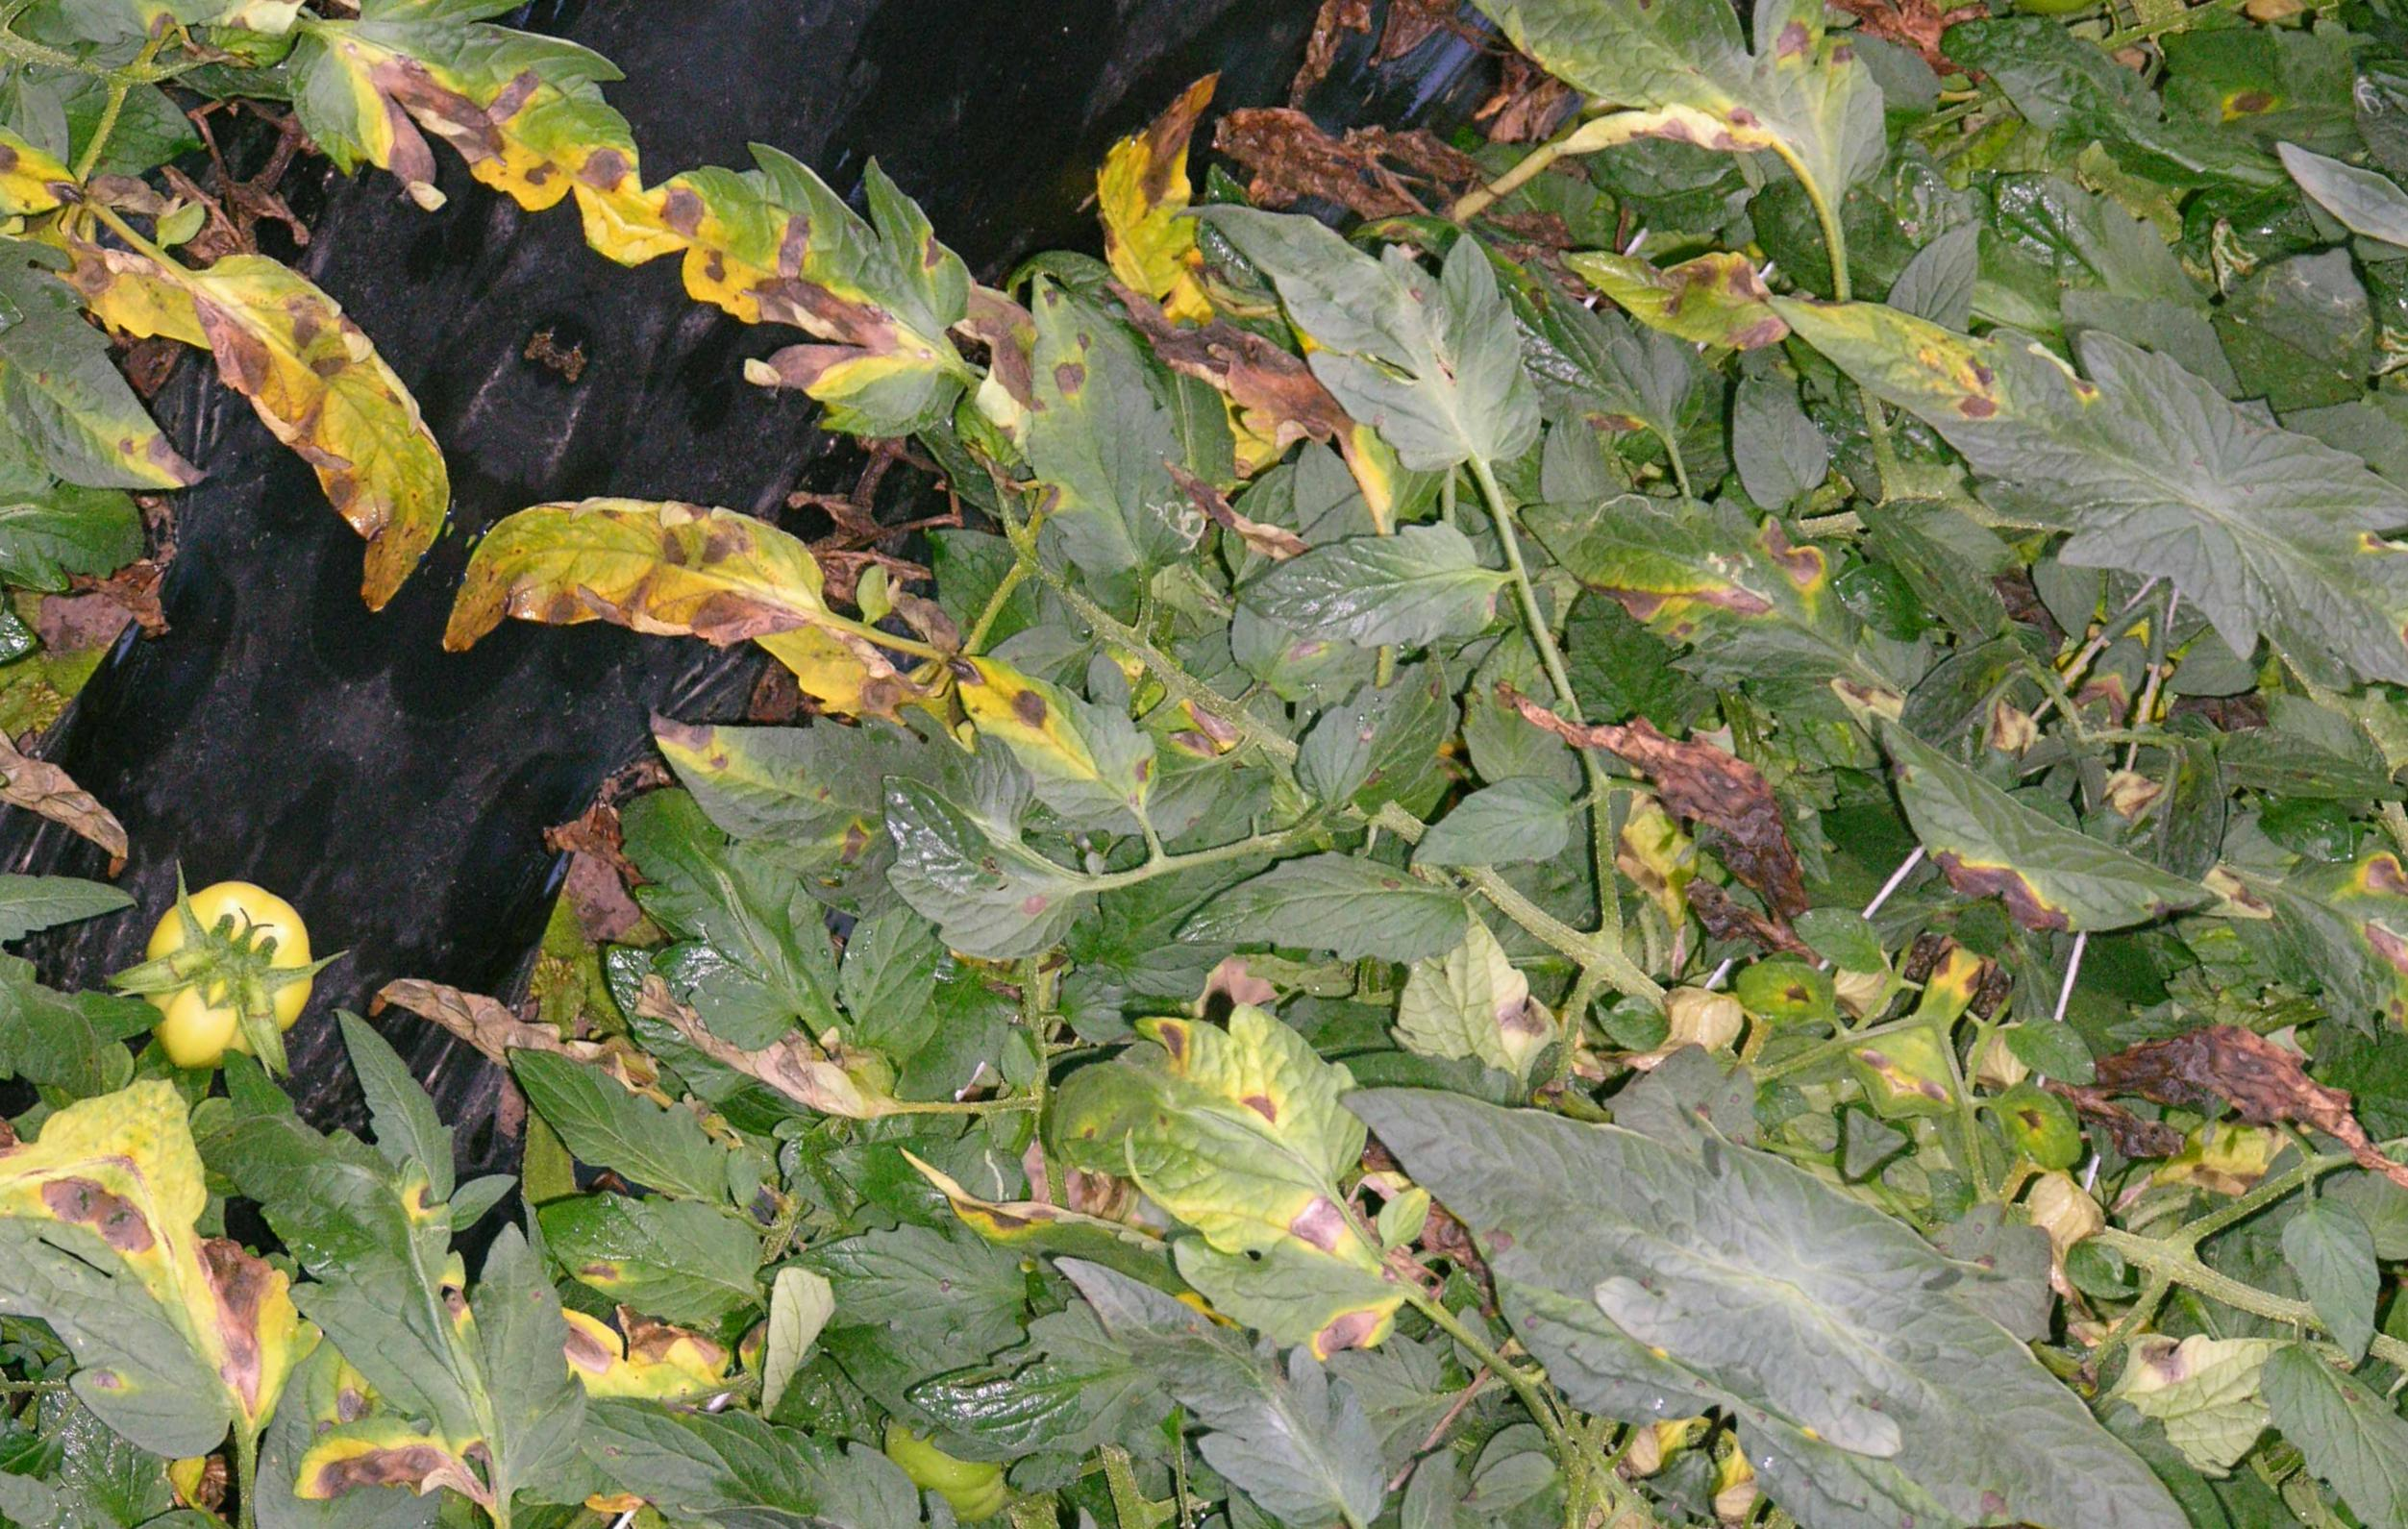Tomato Early blight leaf: (1715, 172, 2268, 644), (407, 367, 909, 825), (1301, 0, 1994, 277), (5, 1097, 407, 1520), (581, 100, 1018, 481), (1483, 421, 1941, 779), (1034, 948, 1388, 1296), (469, 1094, 804, 1383), (906, 635, 1206, 871), (1562, 174, 1822, 402)
Tomato leaf: (993, 1224, 1418, 1525), (1162, 760, 1487, 1060), (1216, 442, 1530, 729), (1706, 864, 1973, 1150), (204, 1513, 527, 1529), (999, 1513, 1253, 1529)
